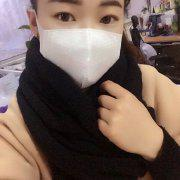OK: (42, 2, 128, 88)
